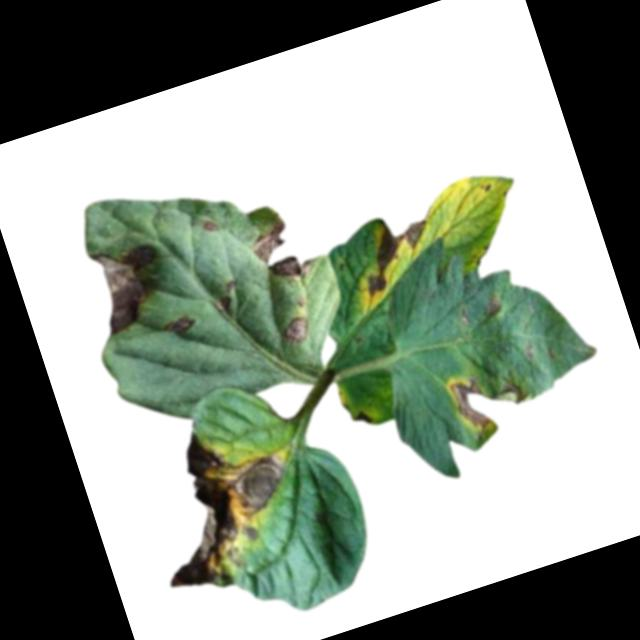Early_blight: (124, 412, 311, 600), (83, 234, 178, 340), (345, 210, 442, 301), (445, 357, 536, 435), (244, 208, 320, 291), (278, 313, 316, 347), (161, 313, 196, 341), (479, 292, 506, 320), (353, 407, 375, 430), (212, 294, 234, 316), (199, 218, 220, 238)
